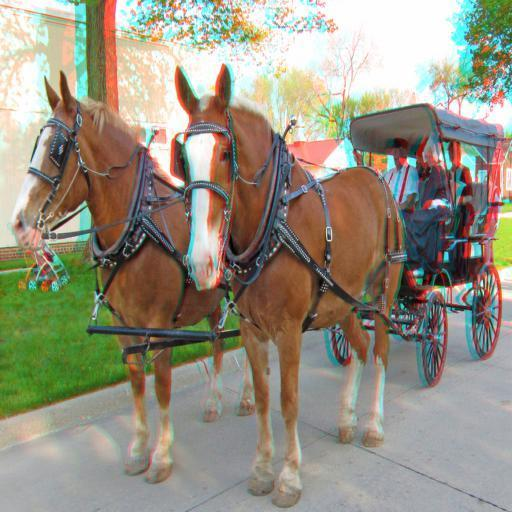horse: (174, 62, 406, 509), (10, 68, 257, 486)
